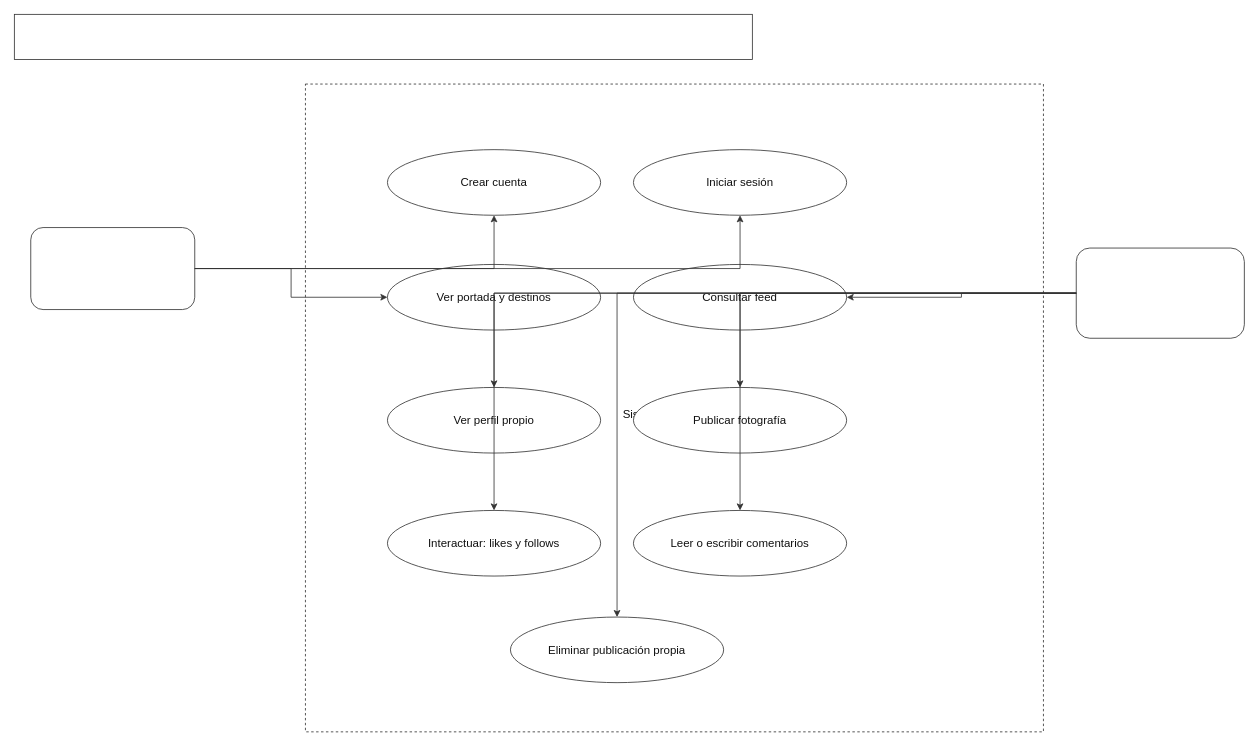
This 1259x746 diagram has some shape labels left out. Each missing label, with the centre of its shape:
"TravelSnap - Casos de uso principales" belongs at point 383,36.
"Usuario registrado (actor)" belongs at point 1159,292.
"Visitante (actor)" belongs at point 112,268.
